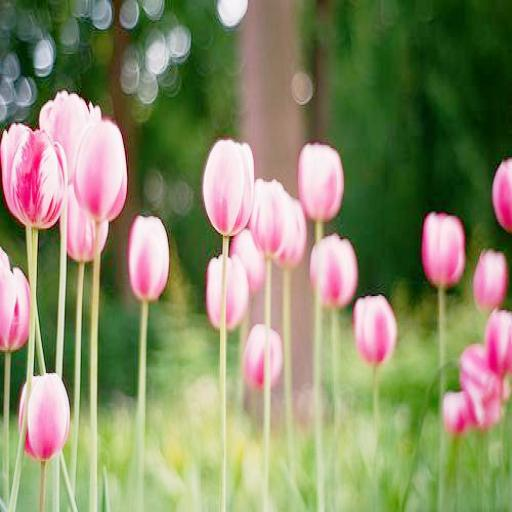tulip: (75, 117, 128, 222), (203, 138, 255, 234), (20, 373, 70, 458), (130, 214, 169, 298), (354, 296, 398, 366), (300, 144, 343, 214), (251, 179, 290, 256), (312, 234, 356, 302), (423, 213, 465, 282), (206, 256, 247, 325)
